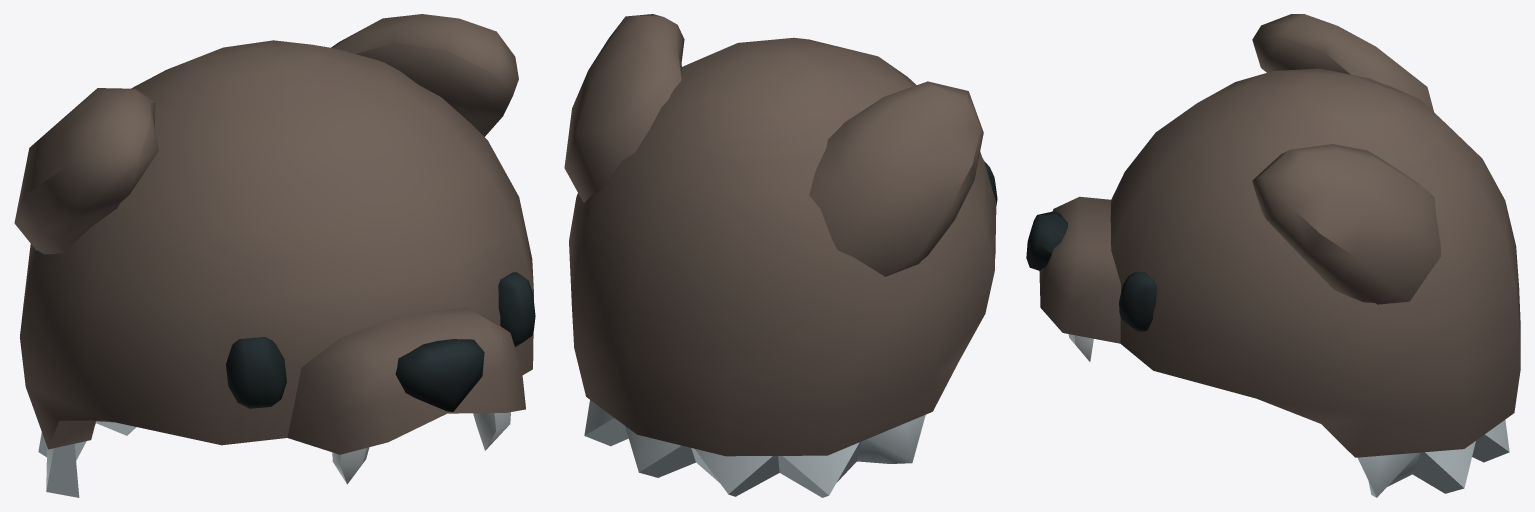
Rendered from bear_hood.glb.
The picture shows the model from 3 angles, left to right: view 1: azimuth 30°, elevation 25°; view 2: azimuth 150°, elevation 25°; view 3: azimuth 270°, elevation 25°; orthographic projection. The views are drawn at different scales.
Visible parts, largest first — view 1: Item; view 2: Item; view 3: Item.
Boxes of the visible parts, x1=… form: Item: x1=14, y1=14, x2=535, y2=497; Item: x1=564, y1=14, x2=997, y2=497; Item: x1=1026, y1=14, x2=1520, y2=497.
Bounding box in the file's own units: 1.11 × 1.02 × 1.26.
Materials: 1 (1 with a texture image).
